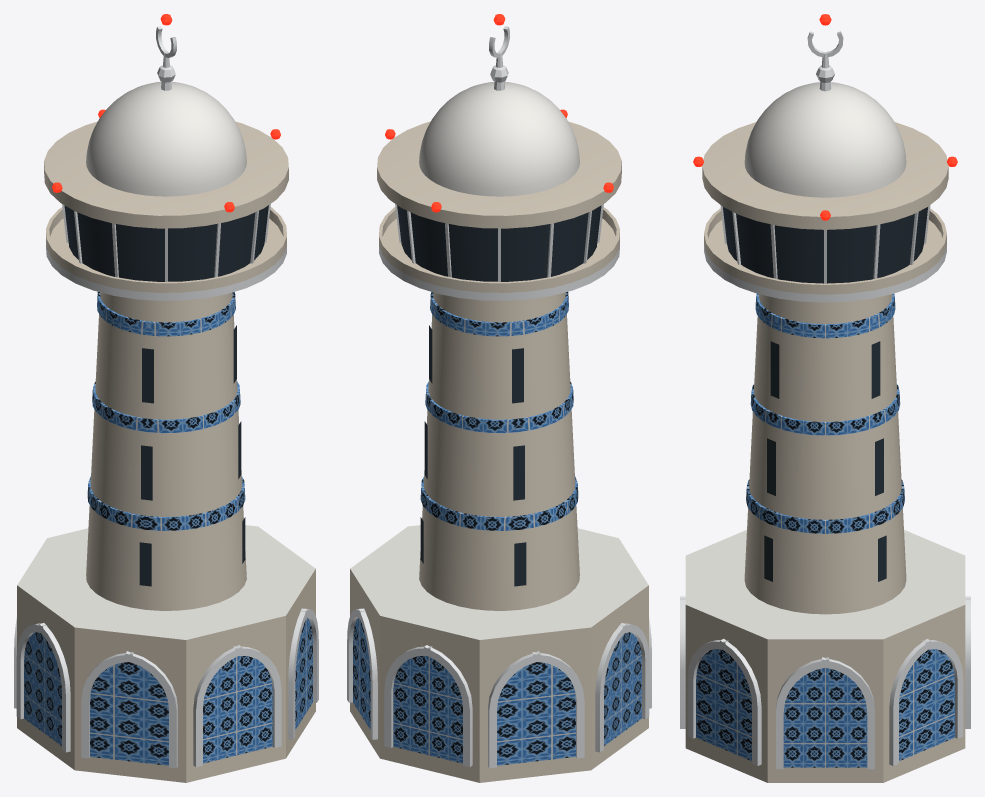
The model's file is OMSJ_tower.glb.
3 renders of one model, left to right at view 1: azimuth 30°, elevation 25°; view 2: azimuth 150°, elevation 25°; view 3: azimuth 270°, elevation 25°, orthographic.
Visible parts, largest first — view 1: Tower_Minaret, Tower_Details, Tower_Glazing; view 2: Tower_Minaret, Tower_Details, Tower_Glazing; view 3: Tower_Minaret, Tower_Details, Tower_Glazing.
Boxes of the visible parts, x1,y1,x2,y2 form: Tower_Minaret: (17,26,315,782); Tower_Details: (14,204,318,768); Tower_Glazing: (64,205,268,586); Tower_Minaret: (350,26,648,782); Tower_Details: (347,204,651,768); Tower_Glazing: (397,205,601,586); Tower_Minaret: (685,31,965,782); Tower_Details: (680,205,970,769); Tower_Glazing: (723,207,927,581).
Size of what is drawn, in the model's own units: 16.51 by 44.45 by 16.51.
Materials: 6 (1 with a texture image).
